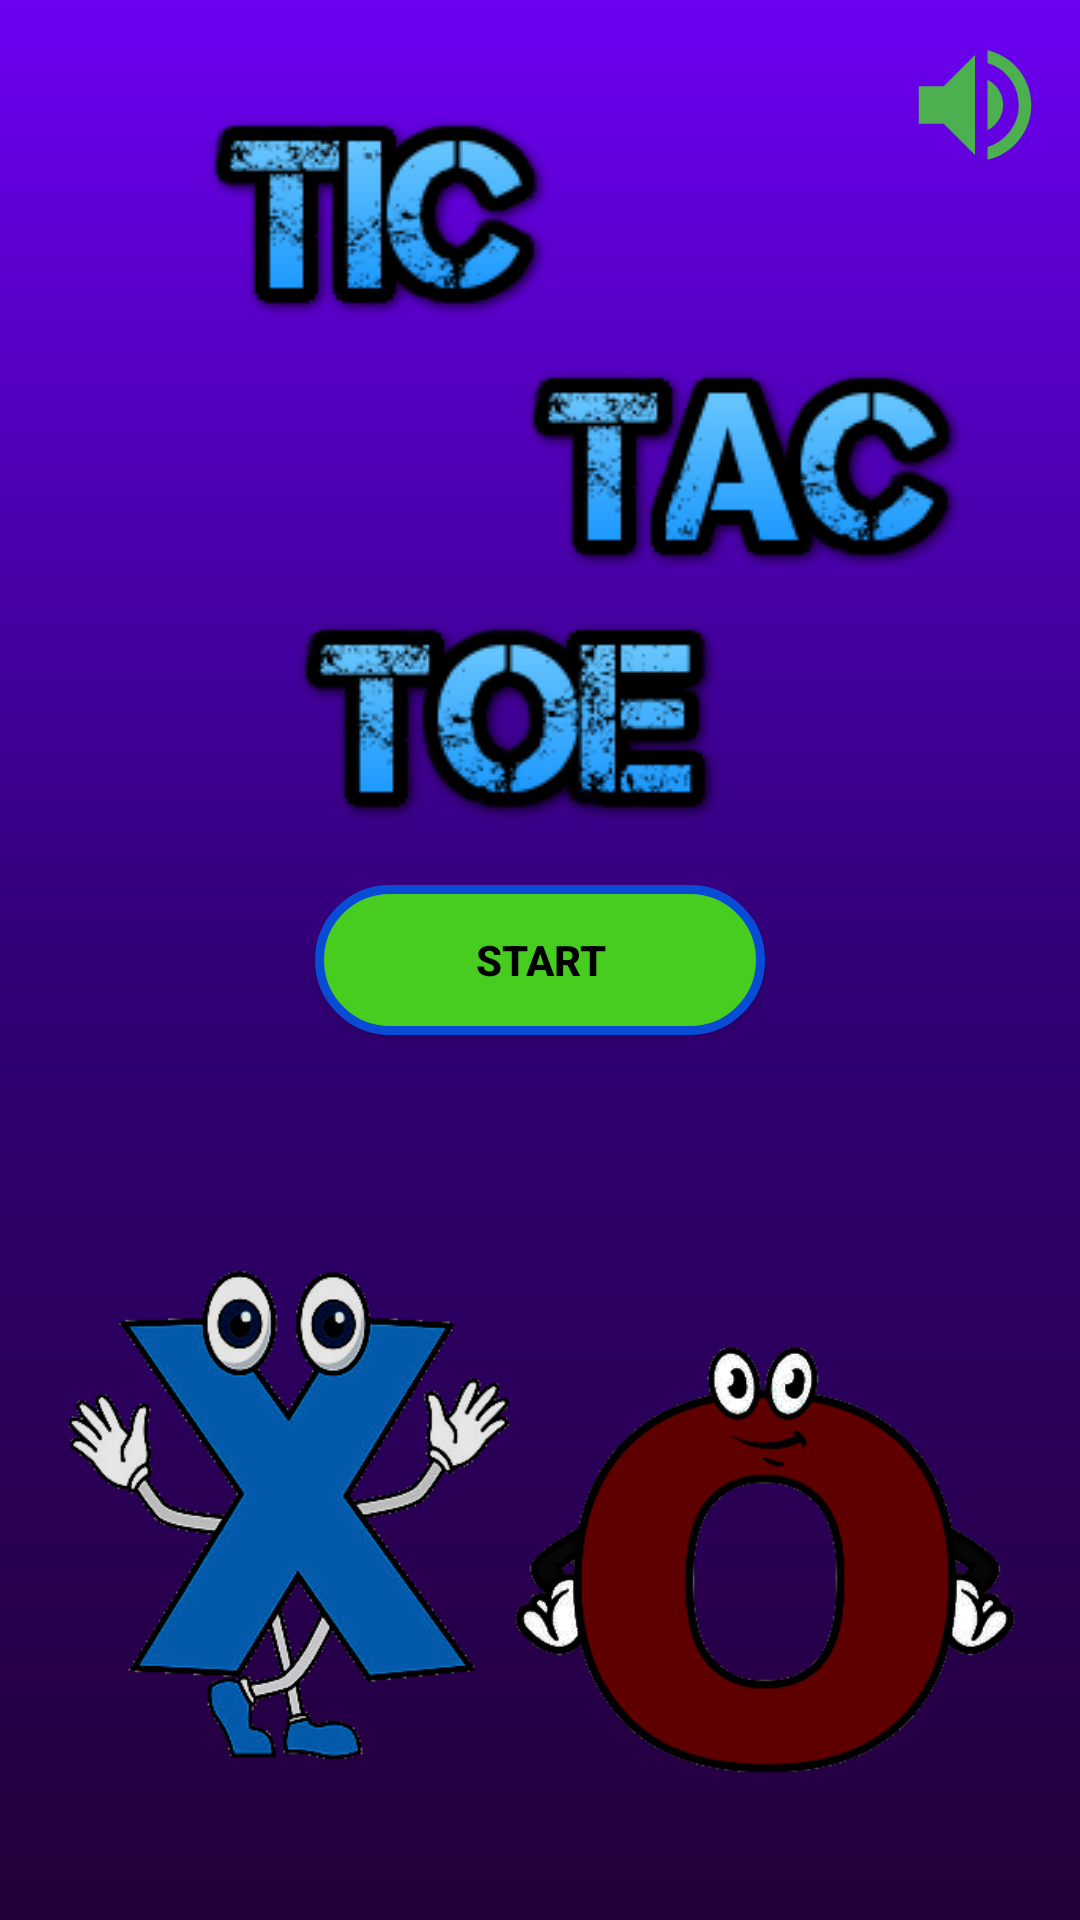

Icon bounding boxes for this 1080 x 1920 phone screenshot, format box(x1, y1, x2, y2):
volume up: box(900, 50, 1050, 180)
